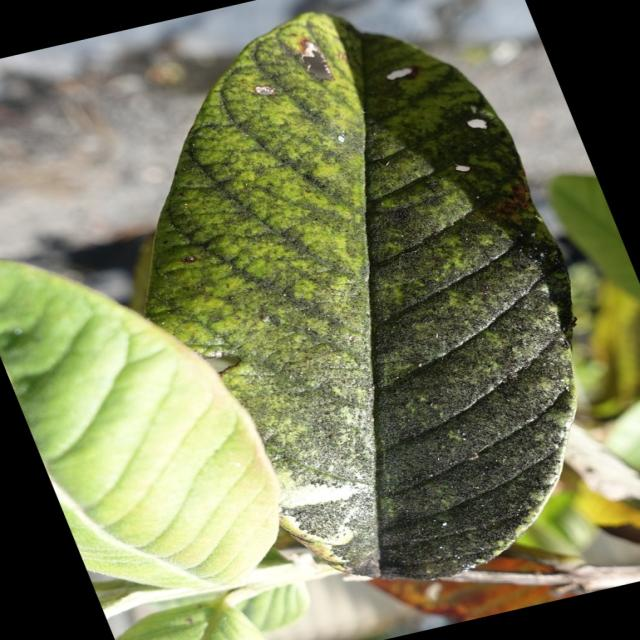Sooty Mold: (137, 11, 579, 581)
